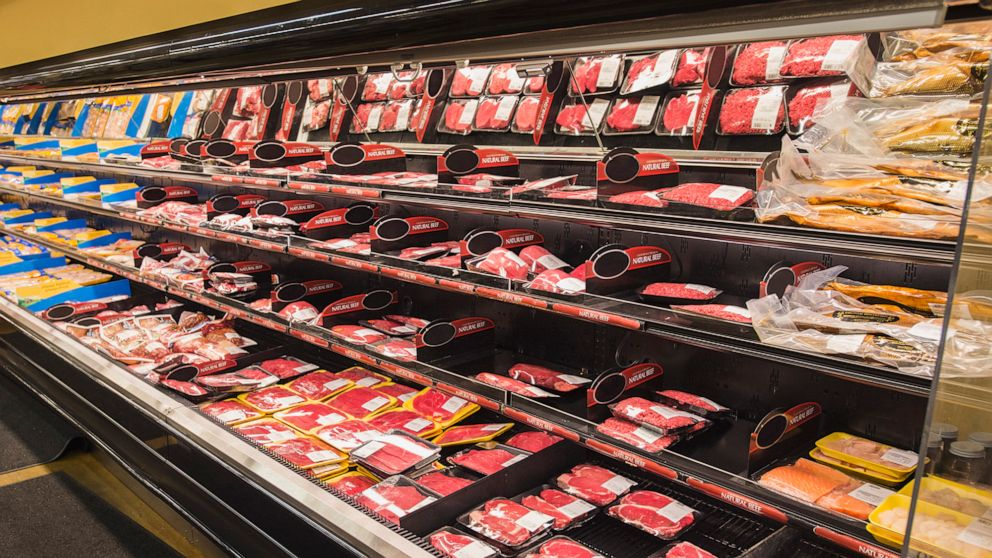ground_beef: (255, 394, 408, 468), (365, 447, 492, 522), (208, 332, 307, 399)
